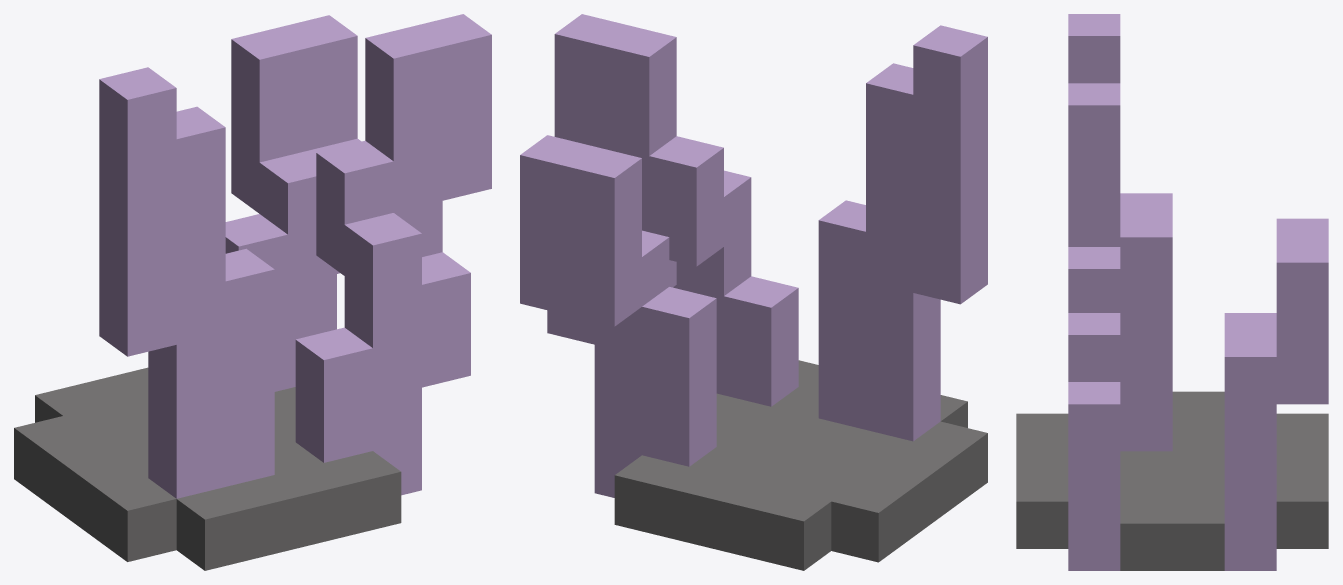
The model's file is mat_enchanted_crystal_lod1.glb.
3 views of the same model, side by side, from view 1: azimuth 30°, elevation 25°; view 2: azimuth 150°, elevation 25°; view 3: azimuth 270°, elevation 25° (orthographic). The views are drawn at different scales.
Parts seen in each view (by area): view 1: mat_enchanted_crystal_lod1; view 2: mat_enchanted_crystal_lod1; view 3: mat_enchanted_crystal_lod1.
Boxes of the visible parts, left/top/right/bottom form: mat_enchanted_crystal_lod1: left=14, top=14, right=491, bottom=570; mat_enchanted_crystal_lod1: left=520, top=14, right=987, bottom=570; mat_enchanted_crystal_lod1: left=1016, top=14, right=1328, bottom=570.
Bounding box in the file's own units: 0.192 × 0.216 × 0.144.
